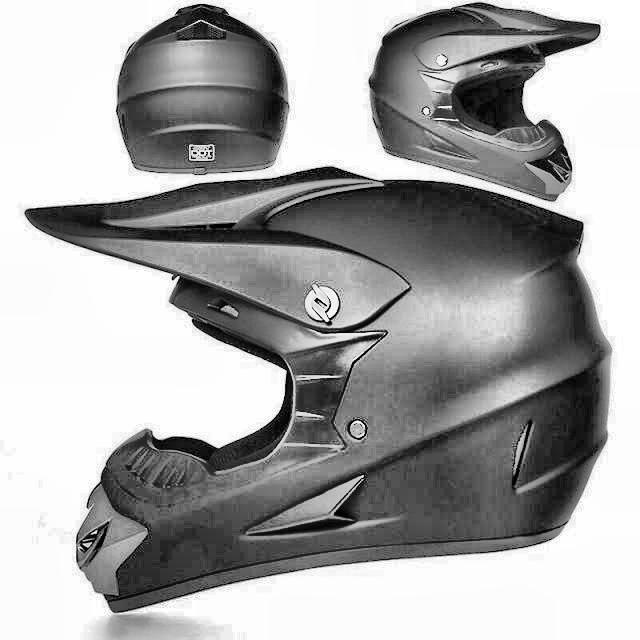Helmet: (15, 162, 620, 622), (366, 0, 604, 210), (110, 0, 296, 180)
